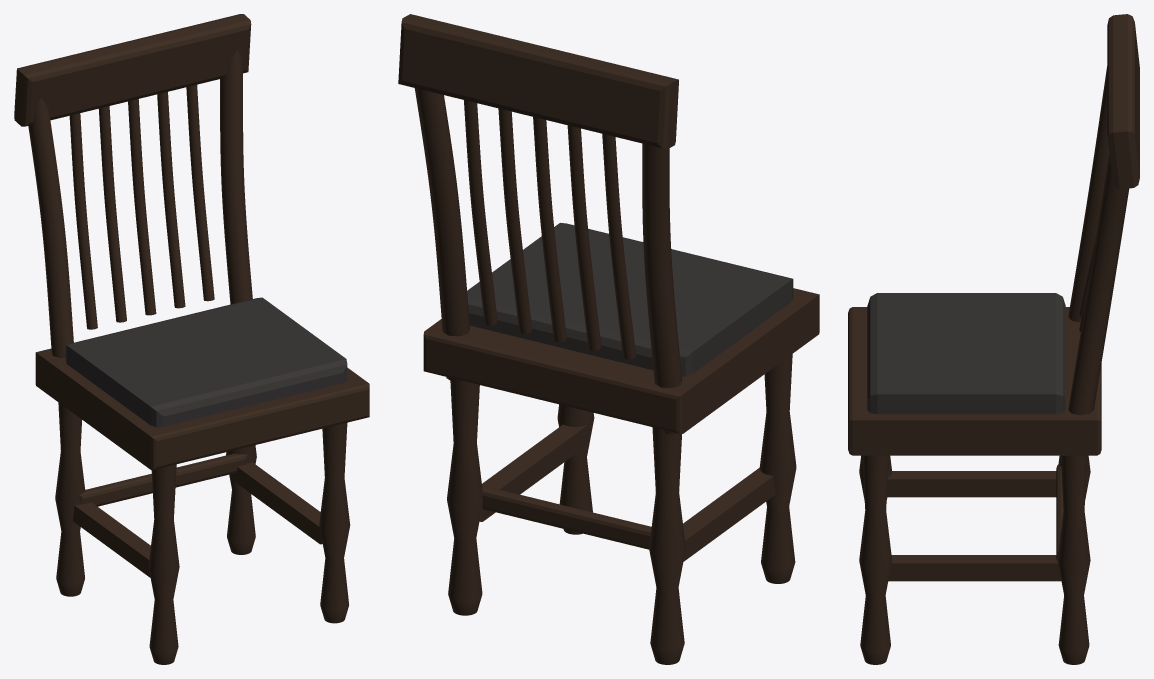
File: spindle-chair.glb
3 renders of one model, left to right at view 1: azimuth 30°, elevation 25°; view 2: azimuth 150°, elevation 25°; view 3: azimuth 270°, elevation 25°, orthographic. The views are drawn at different scales.
Visible parts, largest first — view 1: spindle-chair; view 2: spindle-chair; view 3: spindle-chair.
Part boxes in pixels (x1,y1,x2,y2): spindle-chair: [14, 14, 369, 664]; spindle-chair: [398, 14, 819, 664]; spindle-chair: [848, 14, 1139, 664].
Bounding box in the file's own units: 0.504 × 1.09 × 0.5294.
